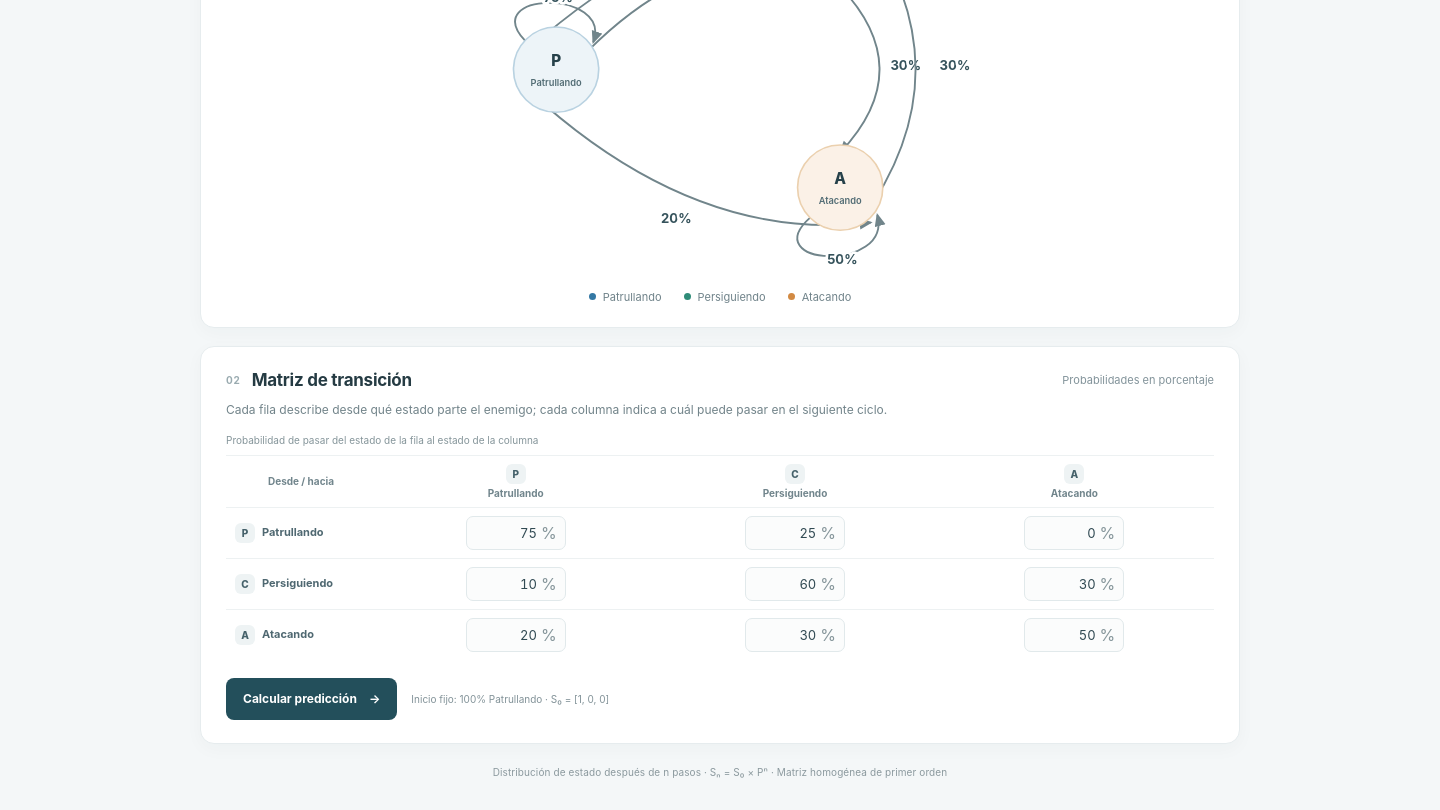
Test: Enemy Behavior Predictor › sends the valid matrix and renders returned results and grouped chart
(page scrolled)
Click the button "Calcular predicción →" at {"x": 312, "y": 698}, box [226, 678, 397, 720]
(page scrolled)
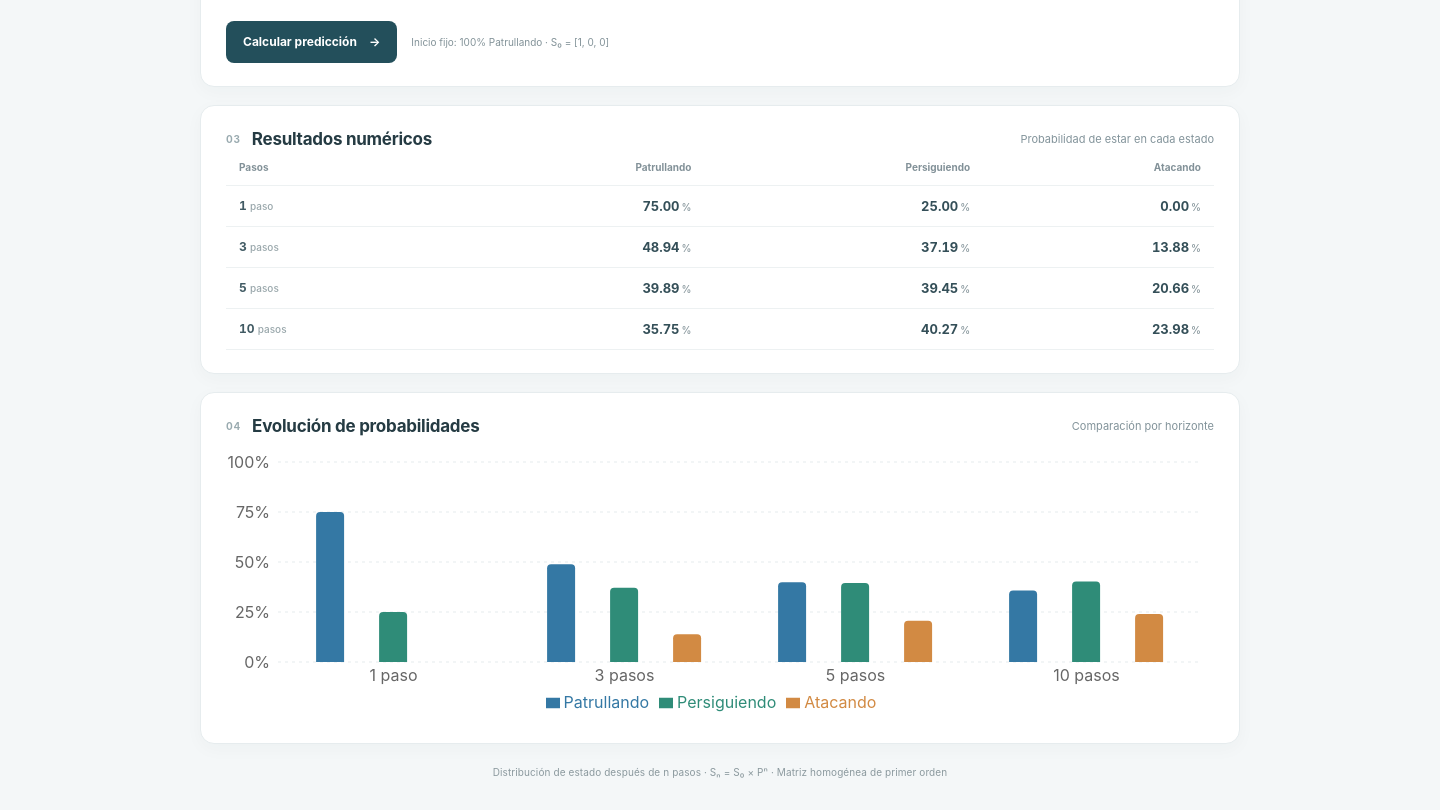
Check: the heading "Resultados numéricos" is shown, box [252, 128, 432, 148]
Check: the row "10 pasos 35.75% 40.27% 23.98%" is shown, box [226, 308, 1214, 349]
Check: the picture named "barras agrupadas" is shown, box [226, 450, 1214, 720]
